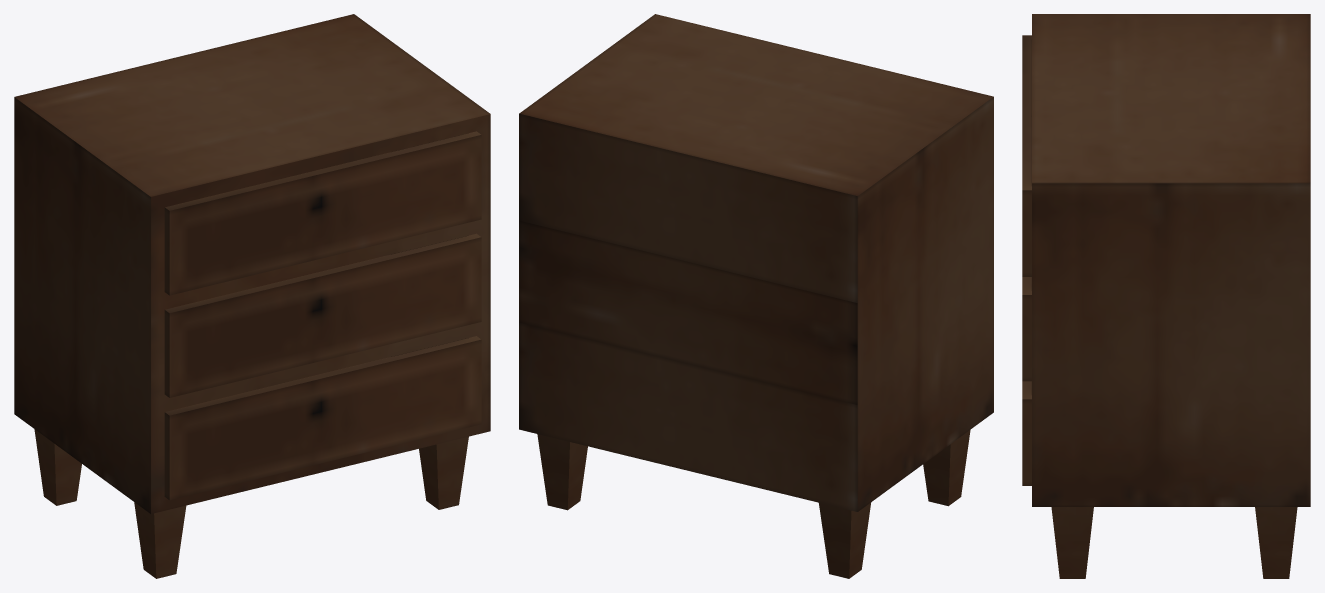
Rendered from tumb_ochka.fbx.
3 renders of one model, left to right at view 1: azimuth 30°, elevation 25°; view 2: azimuth 150°, elevation 25°; view 3: azimuth 270°, elevation 25°, orthographic. The views are drawn at different scales.
Parts seen in each view (by area): view 1: Cube.007, Cube.005, Cube.003, Cube.008; view 2: Cube.007; view 3: Cube.007, Cube.008, Cube.003, Cube.005.
Boxes of the visible parts, left/top/right/bottom form: Cube.007: left=14, top=14, right=490, bottom=578; Cube.005: left=164, top=336, right=481, bottom=500; Cube.003: left=164, top=233, right=481, bottom=397; Cube.008: left=164, top=131, right=481, bottom=295; Cube.007: left=519, top=14, right=993, bottom=578; Cube.007: left=1032, top=14, right=1310, bottom=578; Cube.008: left=1022, top=35, right=1031, bottom=276; Cube.003: left=1022, top=277, right=1031, bottom=381; Cube.005: left=1022, top=381, right=1031, bottom=485.
Size of the model in its own units: 84.16 by 93.84 by 60.63.
Materials: 1 (1 with a texture image).
